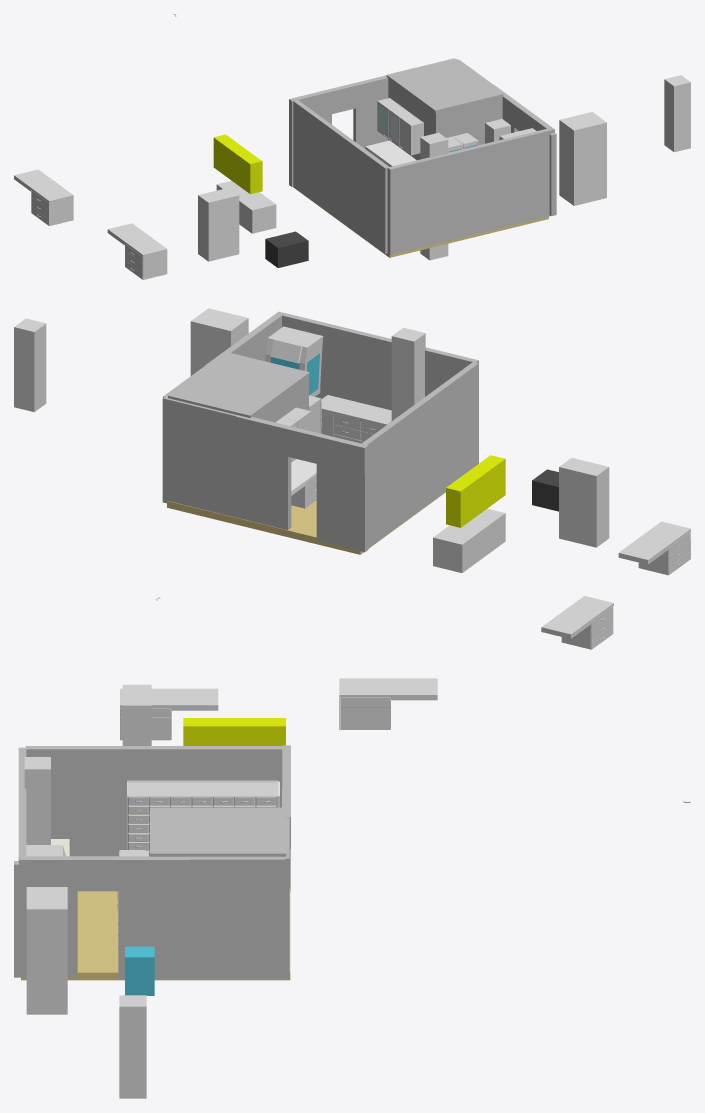
File: medical room joku onglema tuli ni tahan jatkossa final.fbx
3 renders of one model, top to bottom at view 1: azimuth 30°, elevation 25°; view 2: azimuth 150°, elevation 25°; view 3: azimuth 270°, elevation 25°, orthographic. The views are drawn at different scales.
Visible parts, largest first — view 1: Cube.001, Cube.003, Cube.016, Cube.010, Cube.011, työtaso, työtaso.001, Cube.017, Cube.013, Cube.007, Cube.002, Cube.008 (+8 smaller); view 2: Cube.003, Cube.002, Cube.001, Cube.010, Cube.018, Cube.011, Cube.019, Cube.008, Cube.013, Cube.017, Cube.015, työtaso.001 (+9 smaller); view 3: Cube.004, Cube.003, Cube.010, Cube.016, Cube.020, Cube, työtaso.001, Cube.021, Cube.013, Cube.017, Laatikot, työtaso (+7 smaller).
Part boxes in pixels (<box>): Cube.001: <box>387,128,550,255</box>; Cube.003: <box>293,100,388,253</box>; Cube.016: <box>559,112,606,205</box>; Cube.010: <box>386,58,503,112</box>; Cube.011: <box>198,187,239,261</box>; työtaso: <box>107,223,167,279</box>; työtaso.001: <box>14,169,73,225</box>; Cube.017: <box>213,134,262,194</box>; Cube.013: <box>664,75,690,152</box>; Cube.007: <box>435,96,502,144</box>; Cube.002: <box>353,59,458,148</box>; Cube.008: <box>216,180,276,233</box>; Cube.003: <box>362,362,478,547</box>; Cube.002: <box>162,396,291,529</box>; Cube.001: <box>282,313,478,410</box>; Cube.010: <box>168,352,309,418</box>; Cube.018: <box>236,415,368,475</box>; Cube.011: <box>559,458,609,547</box>; Cube.019: <box>316,464,368,552</box>; Cube.008: <box>433,508,505,572</box>; Cube.013: <box>14,318,46,412</box>; Cube.017: <box>446,455,505,527</box>; Cube.015: <box>391,327,425,420</box>; työtaso.001: <box>541,596,613,649</box>; Cube.004: <box>118,856,285,978</box>; Cube.003: <box>25,746,282,856</box>; Cube.010: <box>150,807,286,856</box>; Cube.016: <box>26,887,67,1014</box>; Cube.020: <box>19,856,189,891</box>; Cube: <box>21,889,290,980</box>; työtaso.001: <box>339,678,437,729</box>; Cube.021: <box>14,861,77,977</box>; Cube.013: <box>119,995,146,1098</box>; Cube.017: <box>183,718,285,745</box>; Laatikot: <box>128,797,276,856</box>; työtaso: <box>120,688,218,740</box>.
Bounding box in the file's own units: 2132 × 420 × 1588.
